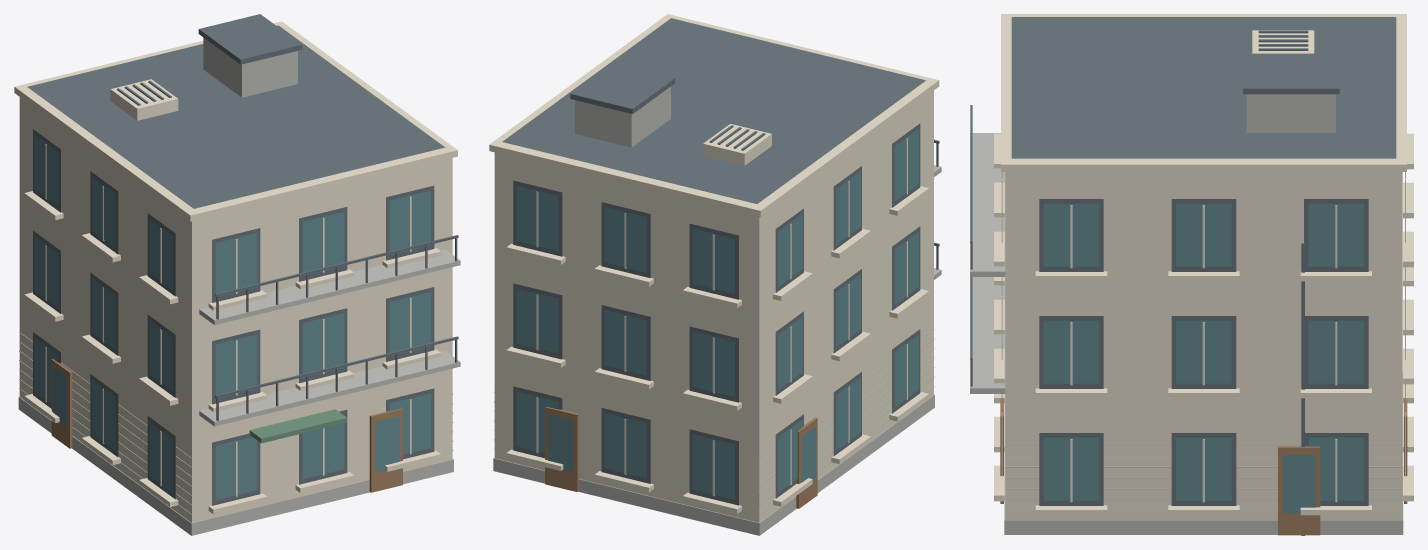
Rendered from q03-home-1.glb.
3 views of the same model, side by side, from view 1: azimuth 30°, elevation 25°; view 2: azimuth 150°, elevation 25°; view 3: azimuth 270°, elevation 25° (orthographic). The views are drawn at different scales.
Size of the model in its own units: 7.46 by 9.31 by 8.94.
